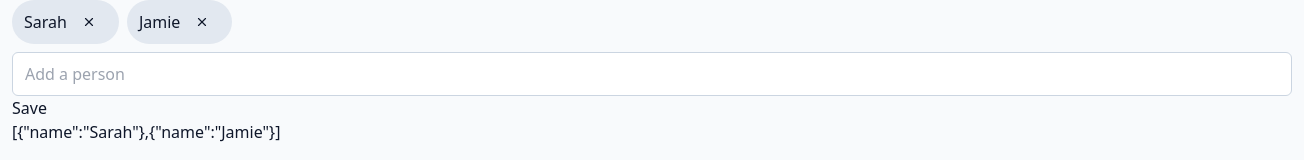
Test case: PeopleTagInput › removes a tag via its remove button
This screenshot has width=1304, height=160.
Click the button named "Remove Sarah" at (89, 22), box [71,4,107,40]
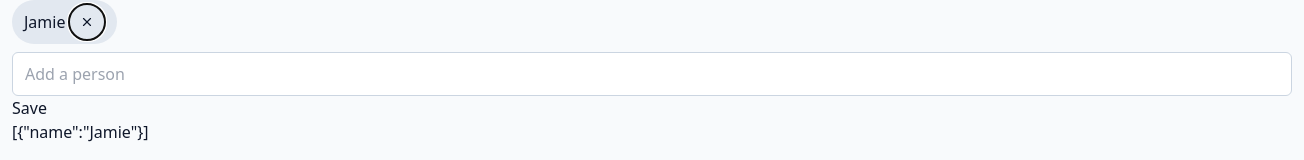
Result: the text "Sarah" is gone
